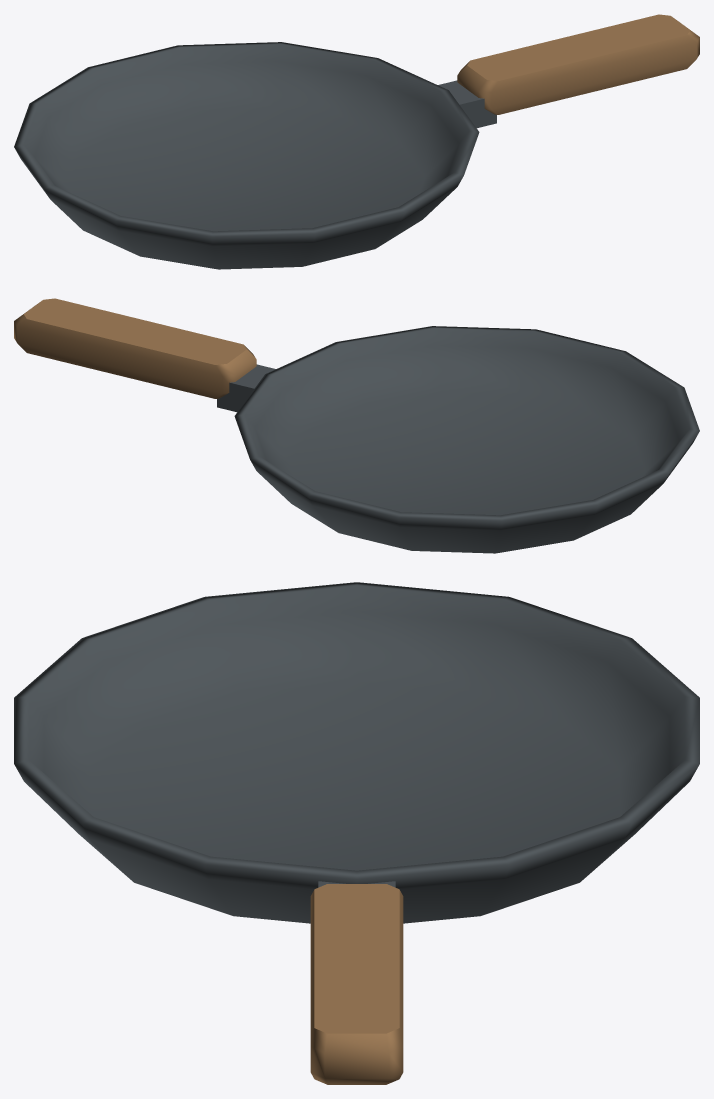
File: frying_pan.glb
3 renders of one model, top to bottom at view 1: azimuth 30°, elevation 25°; view 2: azimuth 150°, elevation 25°; view 3: azimuth 270°, elevation 25°, orthographic. The views are drawn at different scales.
Visible parts, largest first — view 1: frying_pan; view 2: frying_pan; view 3: frying_pan.
Part boxes in pixels (<box>): frying_pan: <box>14,14,699,269</box>; frying_pan: <box>14,298,699,553</box>; frying_pan: <box>14,582,699,1084</box>.
Size of the model in its own units: 0.437 by 0.045 by 0.2671.
